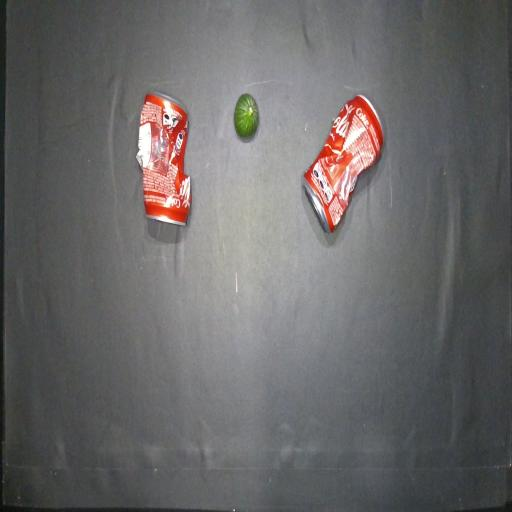higo: (234, 93, 258, 137)
lata_defectuoso: (302, 95, 383, 232), (136, 93, 191, 225)
